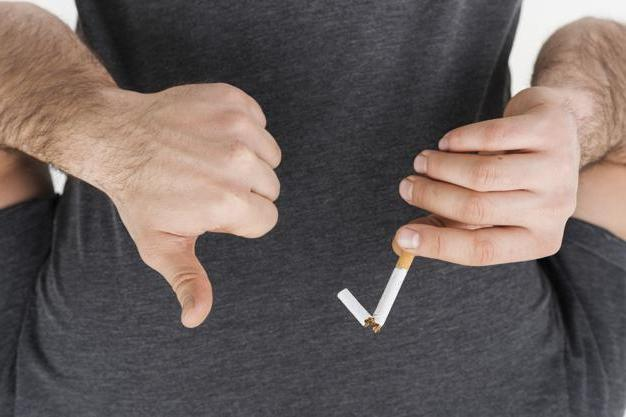thumbsdown: (156, 83, 283, 328)
